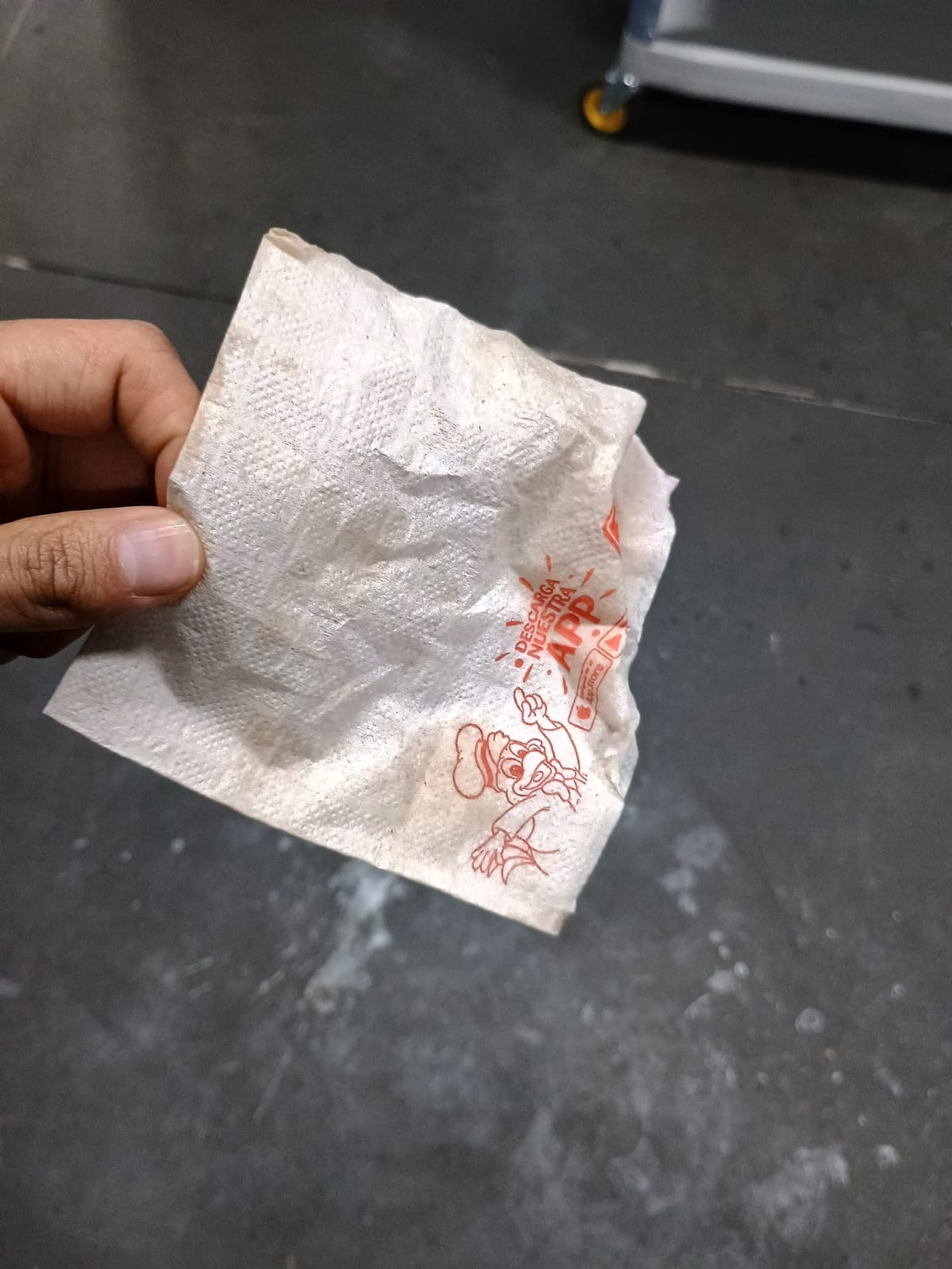Ordinario: (42, 225, 678, 936)
